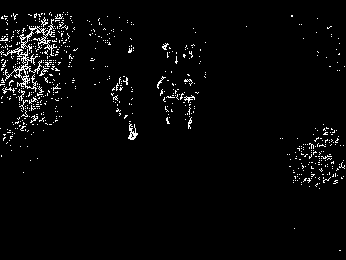person: (109, 76, 138, 142), (177, 72, 199, 132), (158, 71, 177, 125)
